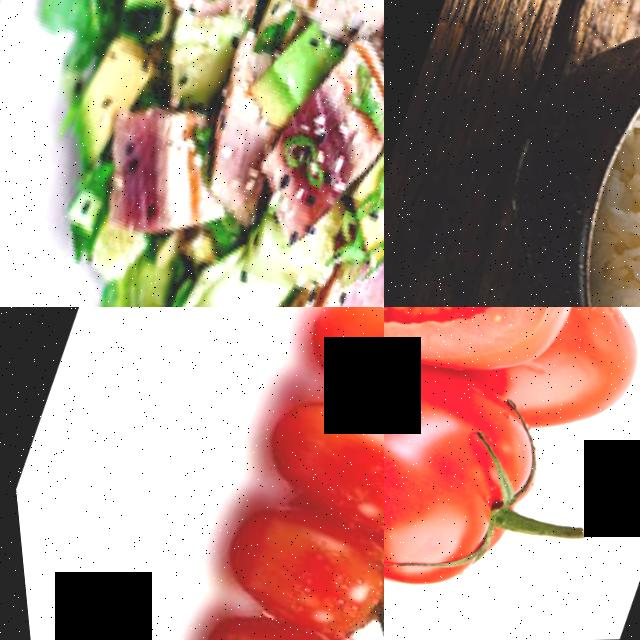tomato: (384, 307, 585, 640), (195, 483, 384, 640), (384, 307, 629, 423), (239, 374, 384, 561), (280, 307, 384, 454), (168, 592, 383, 640)
white rice: (549, 48, 640, 307)
